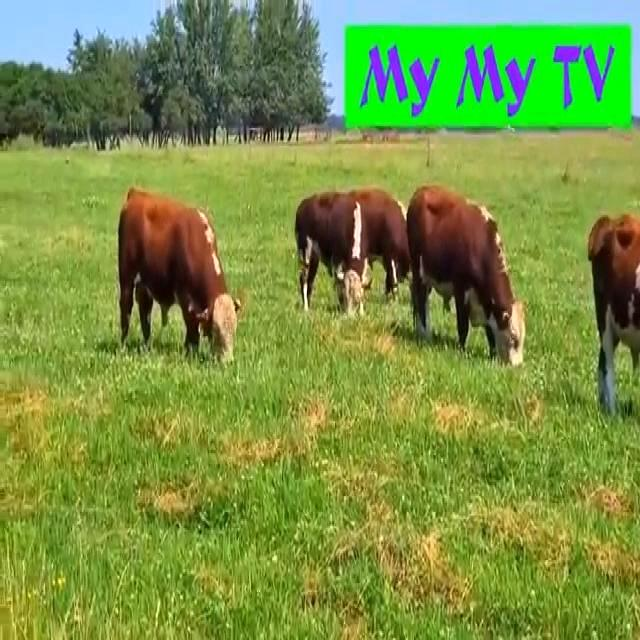COW: (295, 187, 525, 363), (119, 189, 240, 361)
